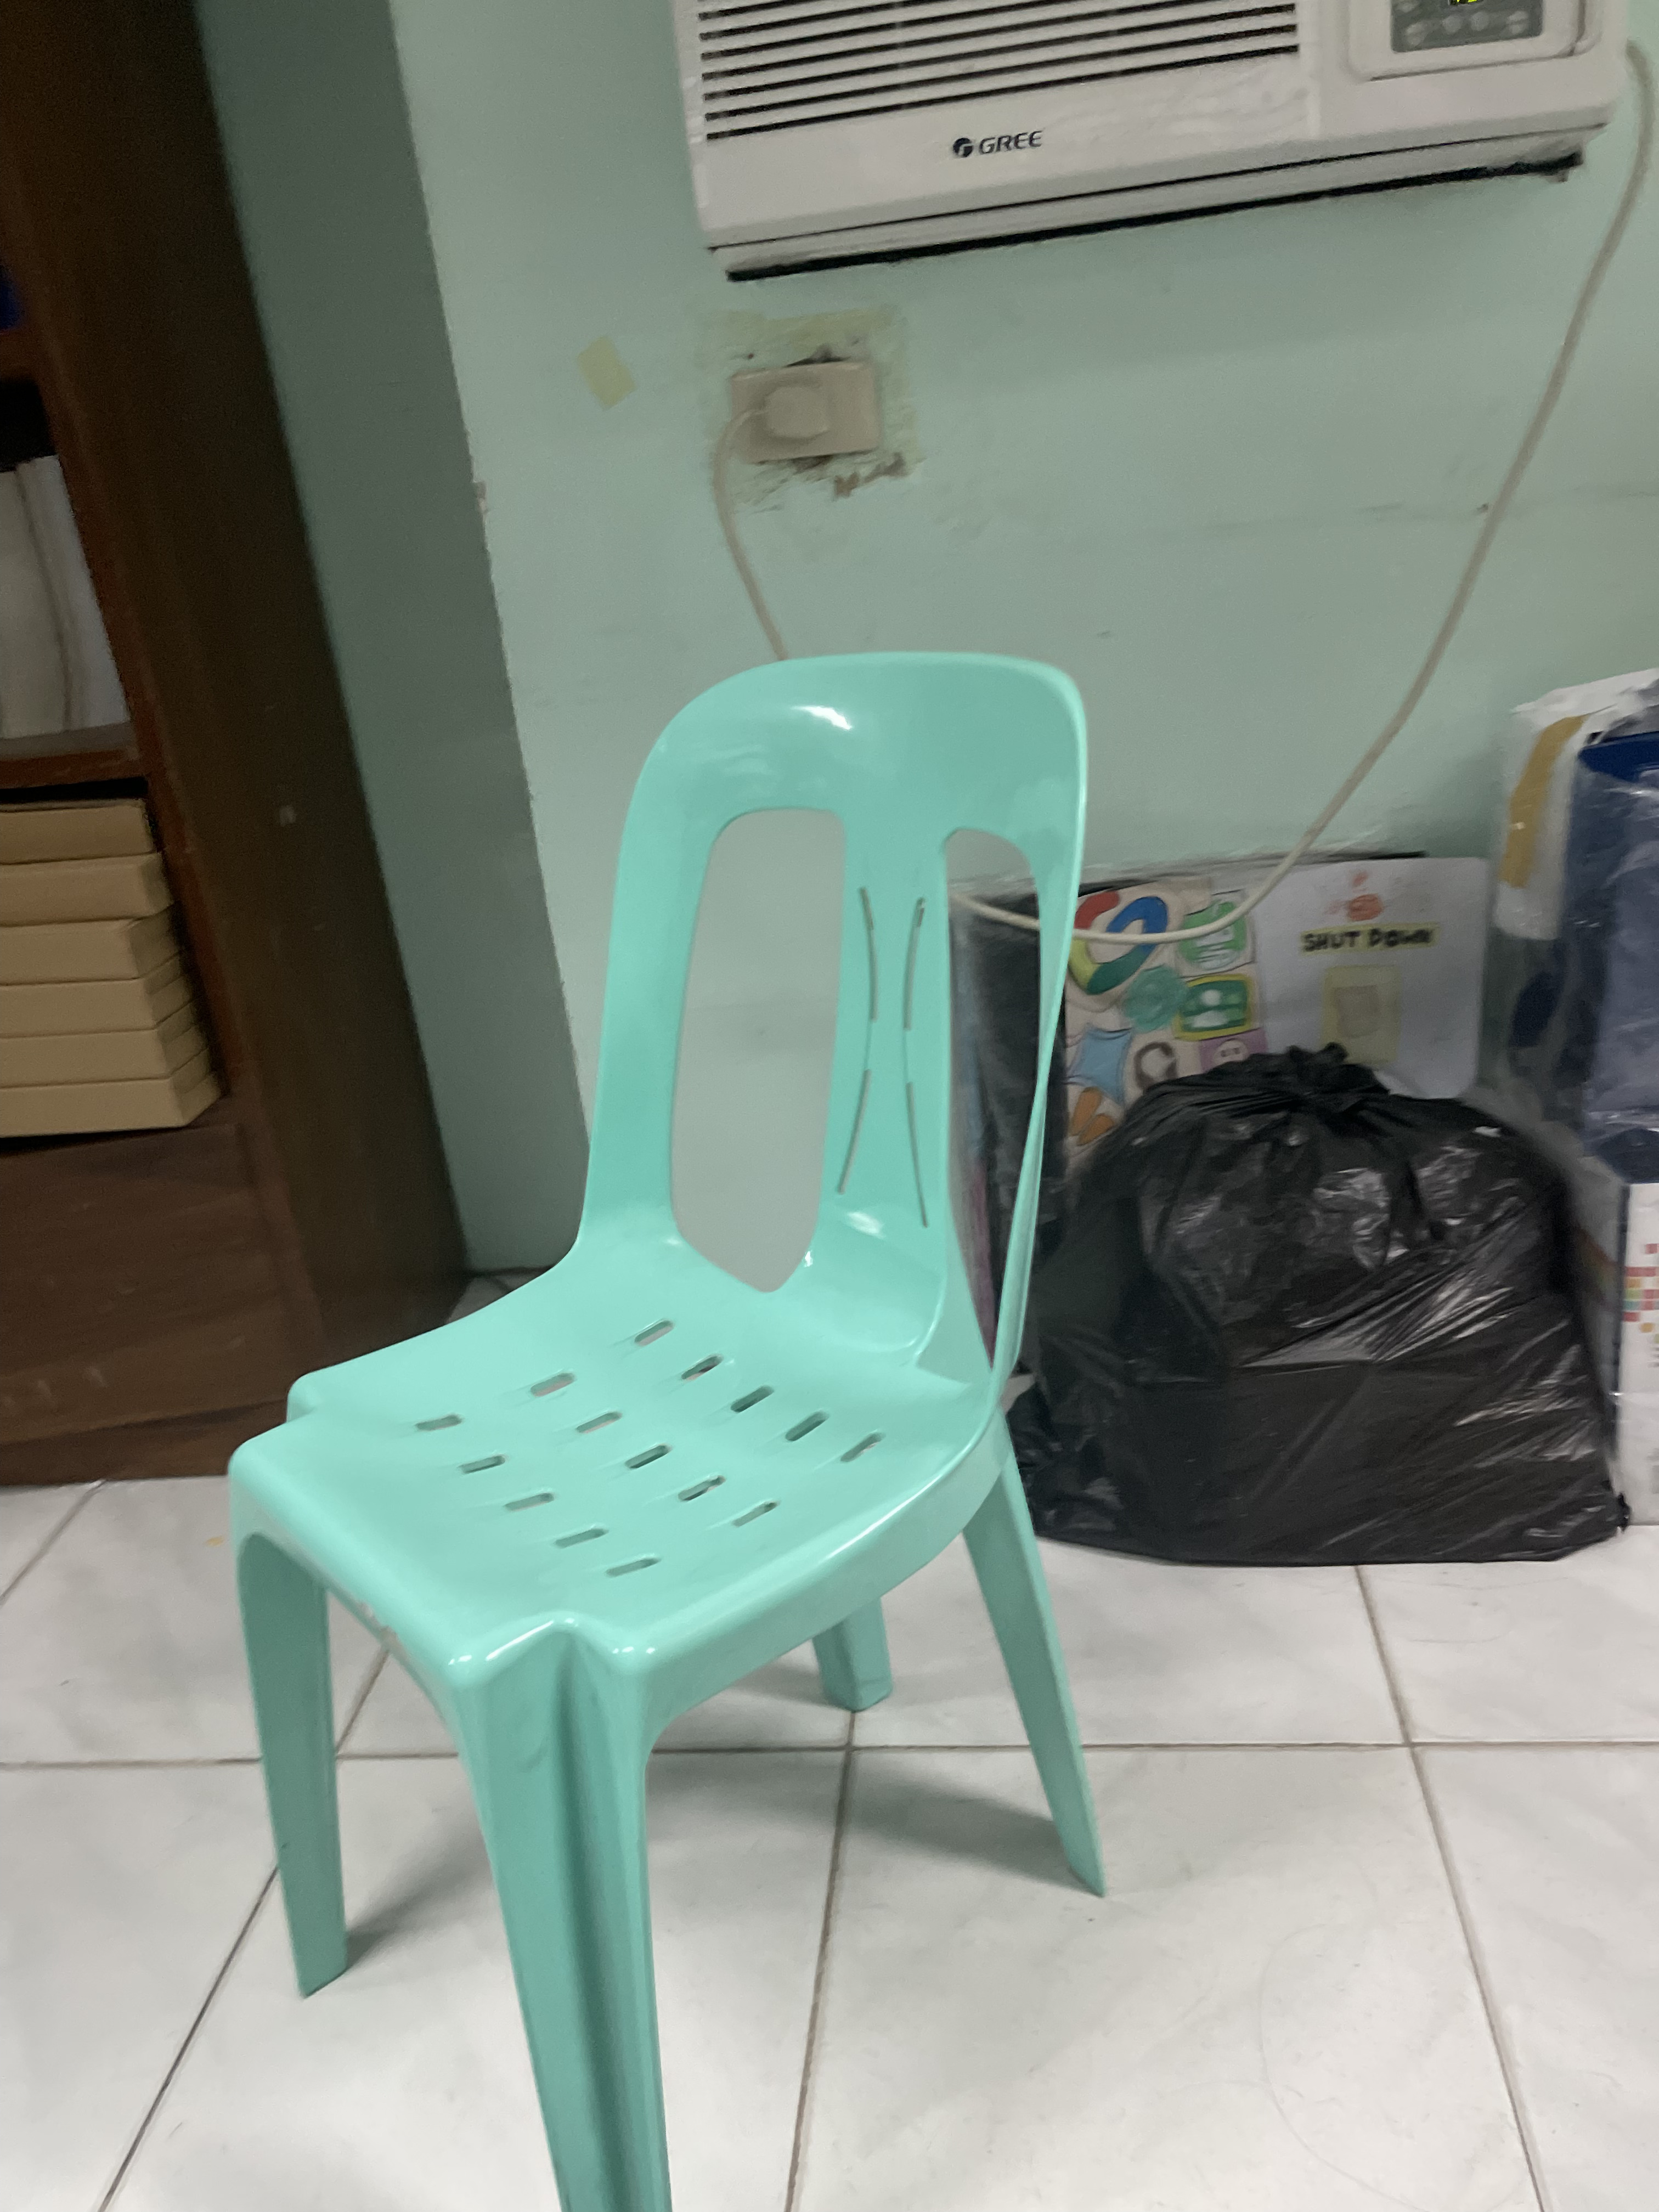chair2: (209, 634, 1134, 2212)
